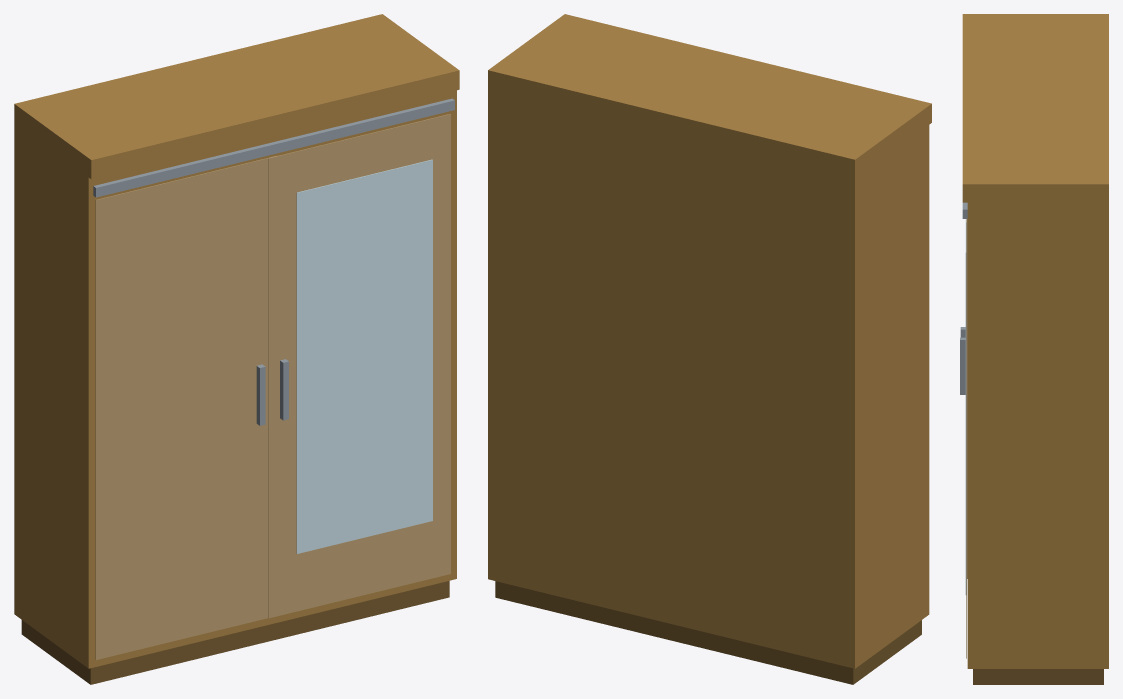
The model's file is sliding_wardrobe_tall.glb.
The picture shows the model from 3 angles, left to right: view 1: azimuth 30°, elevation 25°; view 2: azimuth 150°, elevation 25°; view 3: azimuth 270°, elevation 25°; orthographic projection. The views are drawn at different scales.
Visible parts, largest first — view 1: sliding_wardrobe_tall_Body; view 2: sliding_wardrobe_tall_Body; view 3: sliding_wardrobe_tall_Body.
Boxes of the visible parts, x1,y1,x2,y2 form: sliding_wardrobe_tall_Body: (14,14,459,684); sliding_wardrobe_tall_Body: (488,14,931,684); sliding_wardrobe_tall_Body: (960,14,1108,684).
Bounding box in the file's own units: 1.6 × 2.2 × 0.591.
